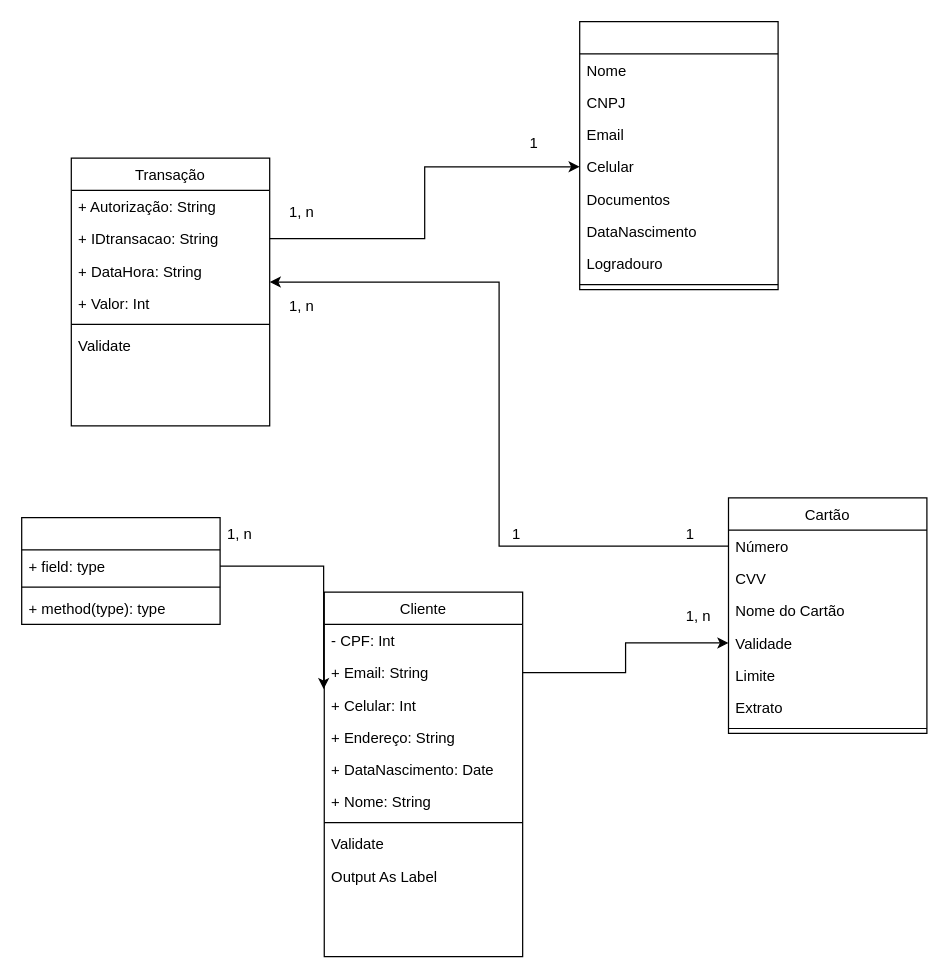
Some shapes in this 949 by 978 pixel diagram are drawn without their labels. Here are the shapes that lost their labels. From the top down, the box of each, then its label:
(578, 20, 778, 290): Comerciante
(20, 516, 220, 624): Notificação
